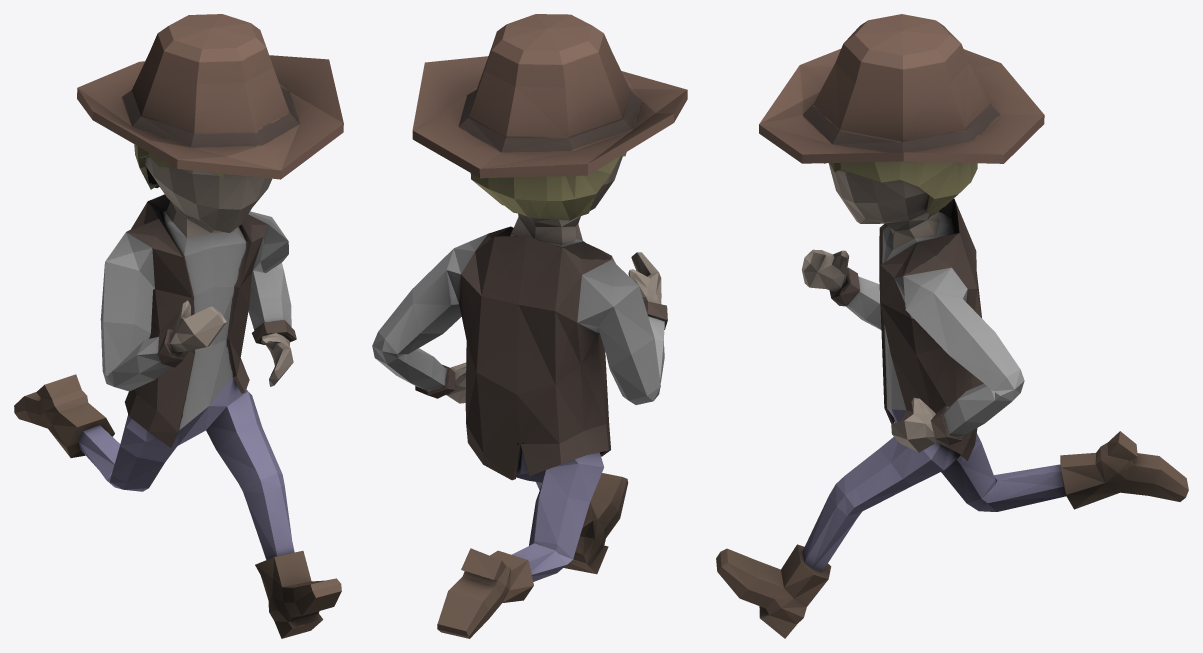
File: char_2.obj
3 views of the same model, side by side, from view 1: azimuth 30°, elevation 25°; view 2: azimuth 150°, elevation 25°; view 3: azimuth 270°, elevation 25° (orthographic). The views are drawn at different scales.
Parts seen in each view (by area): view 1: Cube; view 2: Cube; view 3: Cube.
Boxes of the visible parts, x1=… form: Cube: x1=14, y1=14, x2=343, y2=638; Cube: x1=372, y1=14, x2=687, y2=638; Cube: x1=716, y1=14, x2=1188, y2=638.
Size of the model in its own units: 3.49 by 7.99 by 5.83.
Materials: 1 (1 with a texture image).
